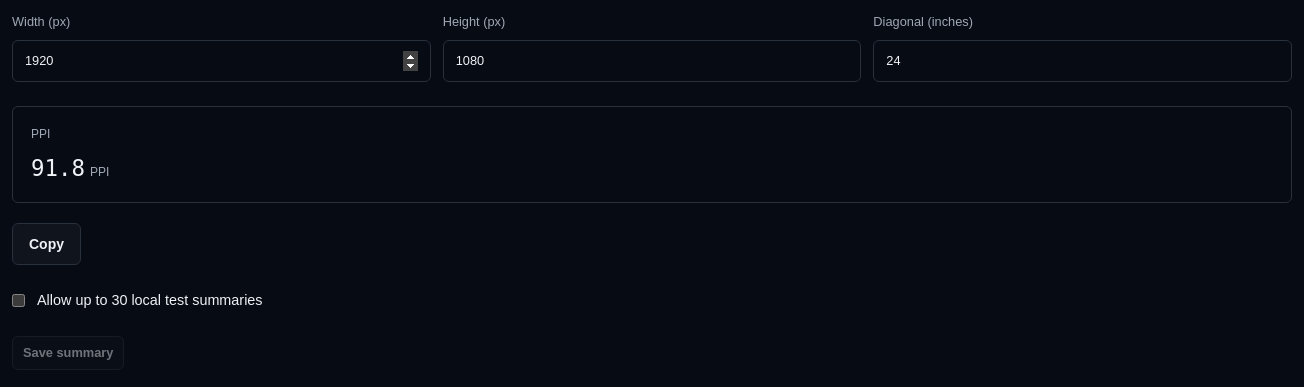
Test: updates PPI and exposes invalid user input without a fabricated result
This screenshot has width=1304, height=387.
Expected: the text "91.8" is shown, [31,155,85,181]
Replace the text in the number field labelled "Diagonal (inches)" with "0" at (1083,62), box [873,40,1292,82]
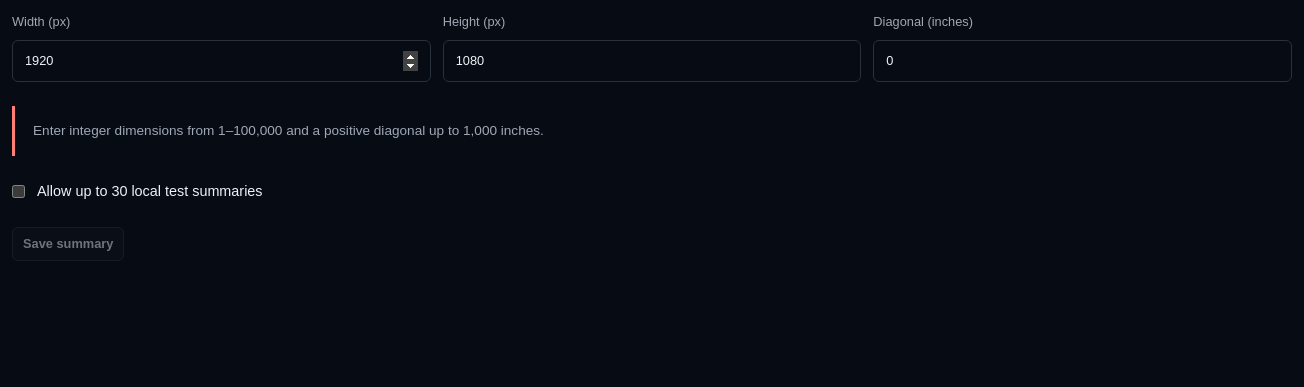
Now the message shows "positive diagonal", box [33,124,544,138]
Now the text "91.8" is gone
